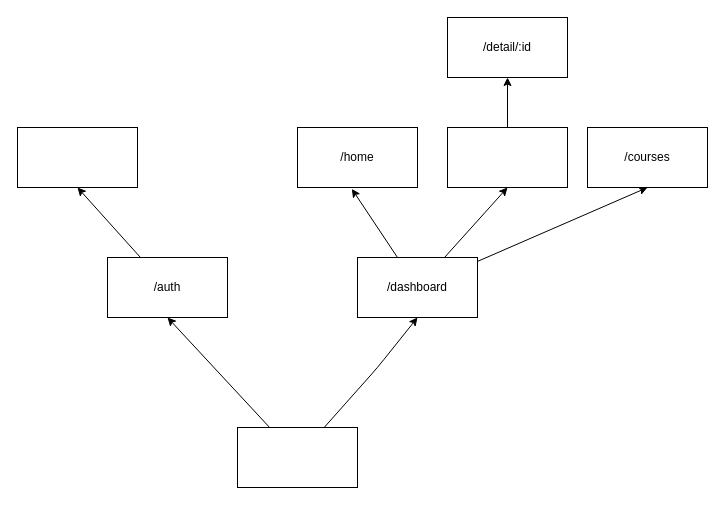
Image size: 725x505. Some labels were removed from this diagram. The shapes that lost their labels are listed below. From the top down, each one's centre as x and y in pixels, then its label:
At (77,157): "/login".
At (507,157): "/users".
At (297,457): "RAIZ /".
